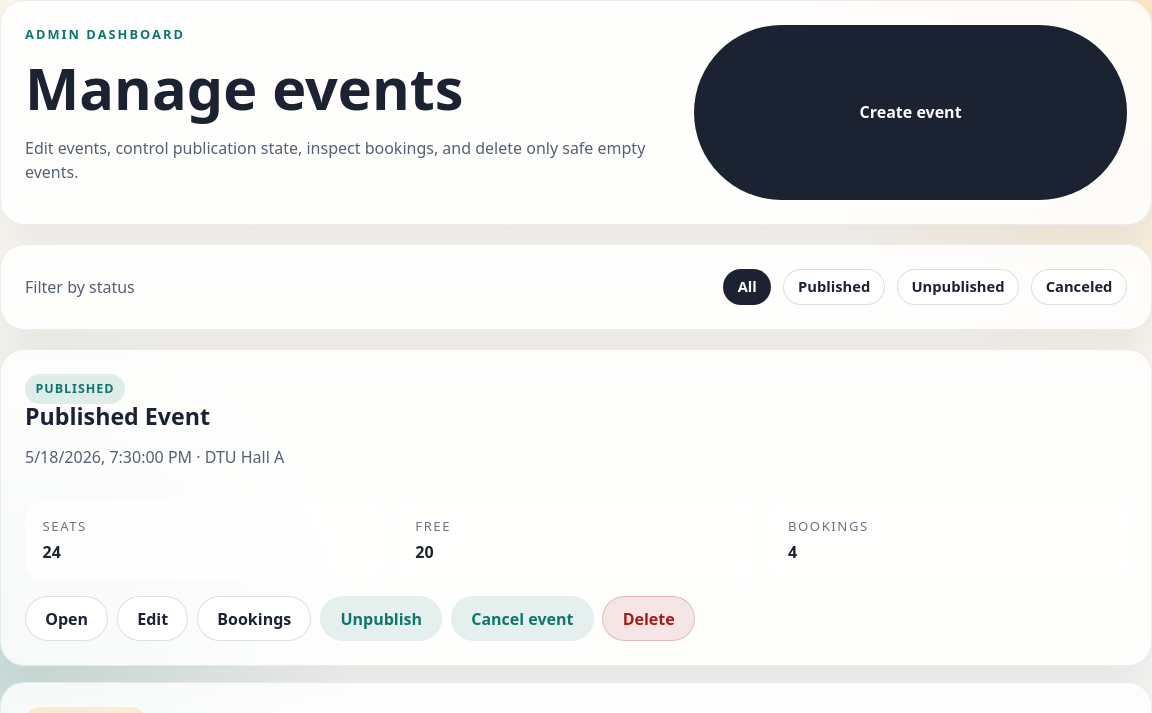
AdminEventsPage › filters admin events by status
The width and height of the screenshot is (1152, 713).
Click the button "Unpublished".
click(958, 287)  # box [897,269,1019,305]
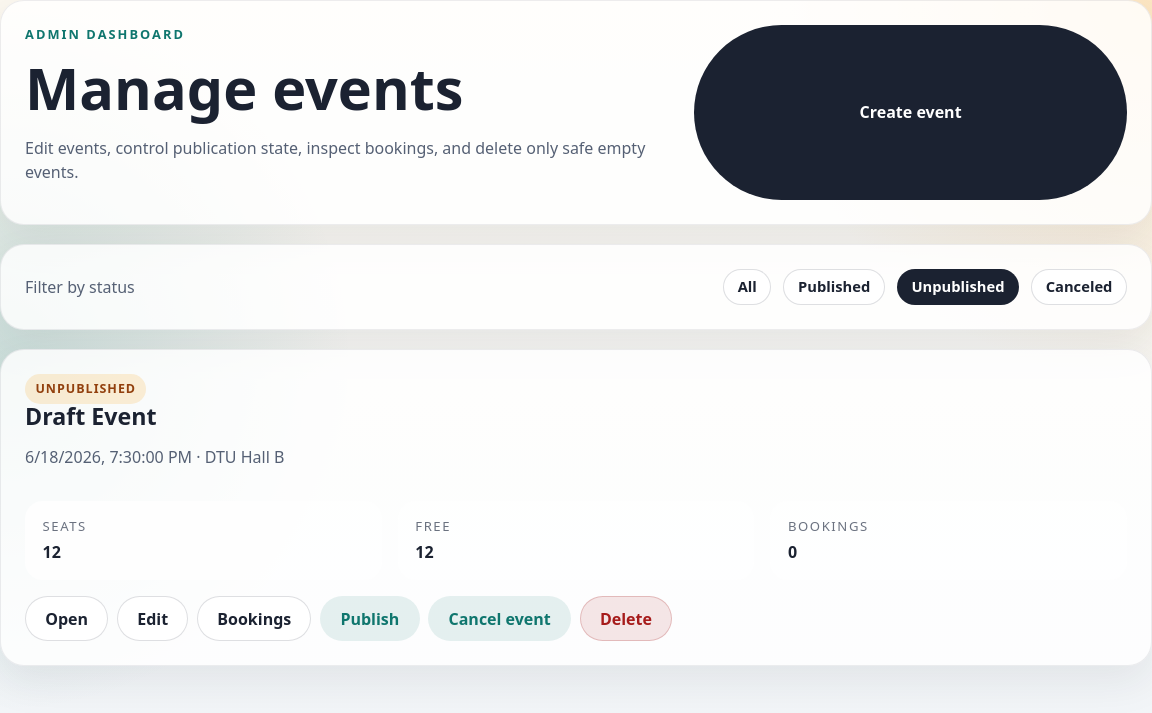
Expected: the heading "Draft Event" is shown, [25,400,156,432]
Result: the heading "Published Event" is gone
